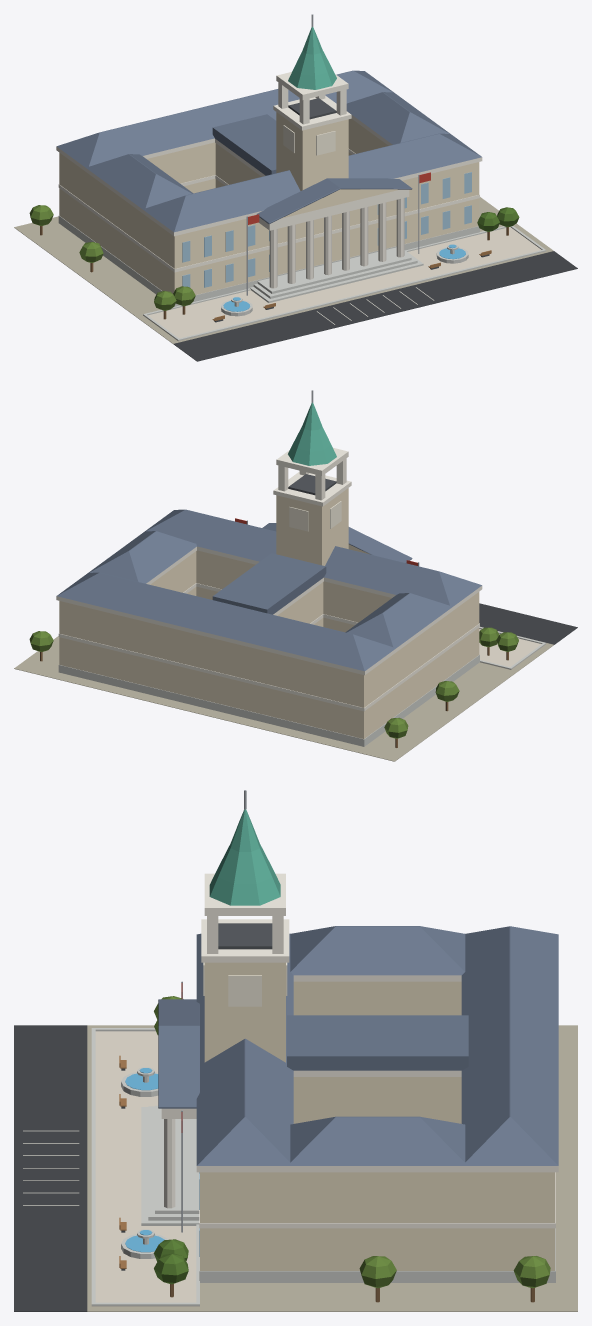
The model's file is cityhall.glb.
3 views of the same model, one above another, from view 1: azimuth 30°, elevation 25°; view 2: azimuth 150°, elevation 25°; view 3: azimuth 270°, elevation 25° (orthographic). The views are drawn at different scales.
Parts seen in each view (by area): view 1: cityhall; view 2: cityhall; view 3: cityhall.
Part boxes in pixels (box(x1,y1,x2,y2)): cityhall: box(14, 14, 577, 361); cityhall: box(14, 390, 577, 761); cityhall: box(14, 790, 577, 1311).
Bounding box in the file's own units: 60 × 37 × 50.
